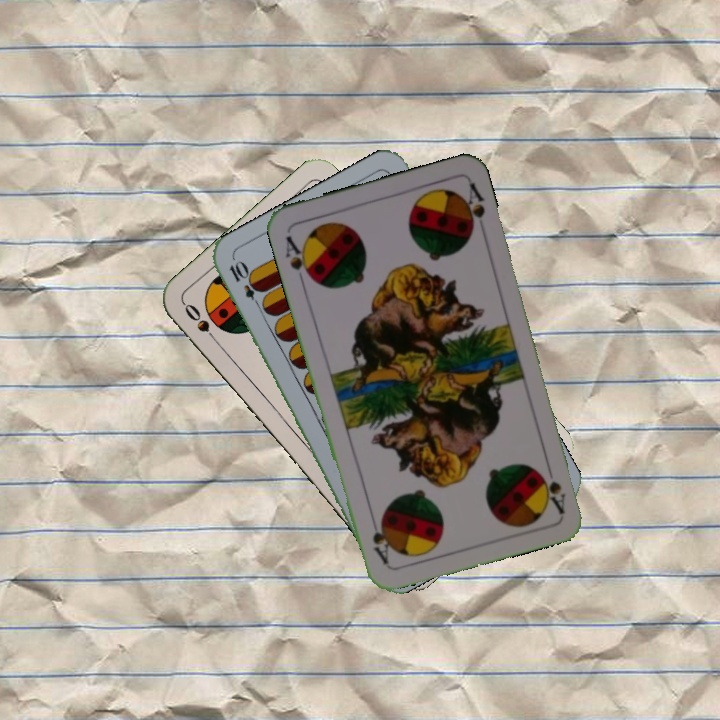E10: (225, 257, 266, 312)
SA: (281, 231, 317, 288), (536, 457, 568, 516)
SO: (180, 299, 223, 349)
